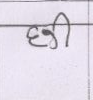i_matra: (58, 12, 73, 47)
